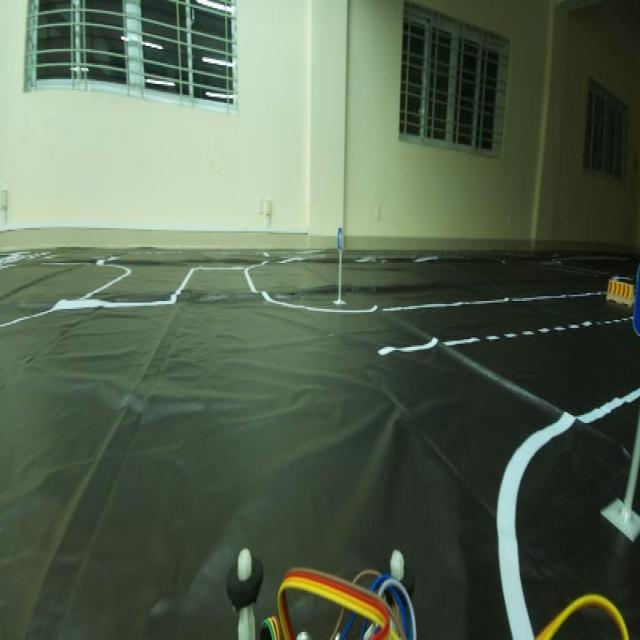onewayroad: (332, 224, 348, 254)
roadblock: (602, 272, 633, 309)
